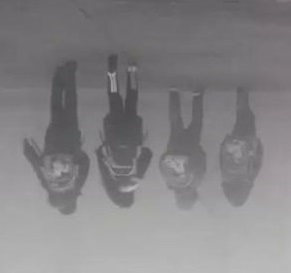person: (23, 60, 88, 216), (95, 54, 153, 209), (158, 84, 208, 212), (218, 86, 264, 208)
